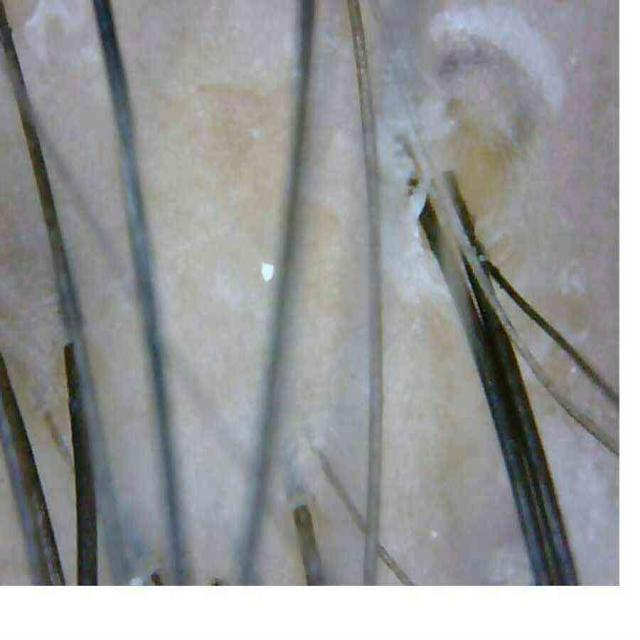d: (261, 261, 274, 282)
